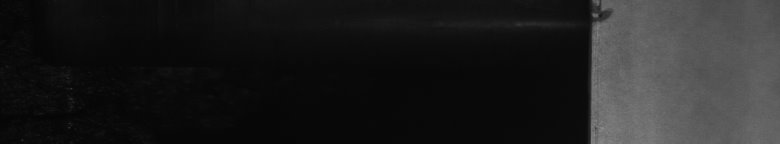hb: (600, 4, 617, 28)
